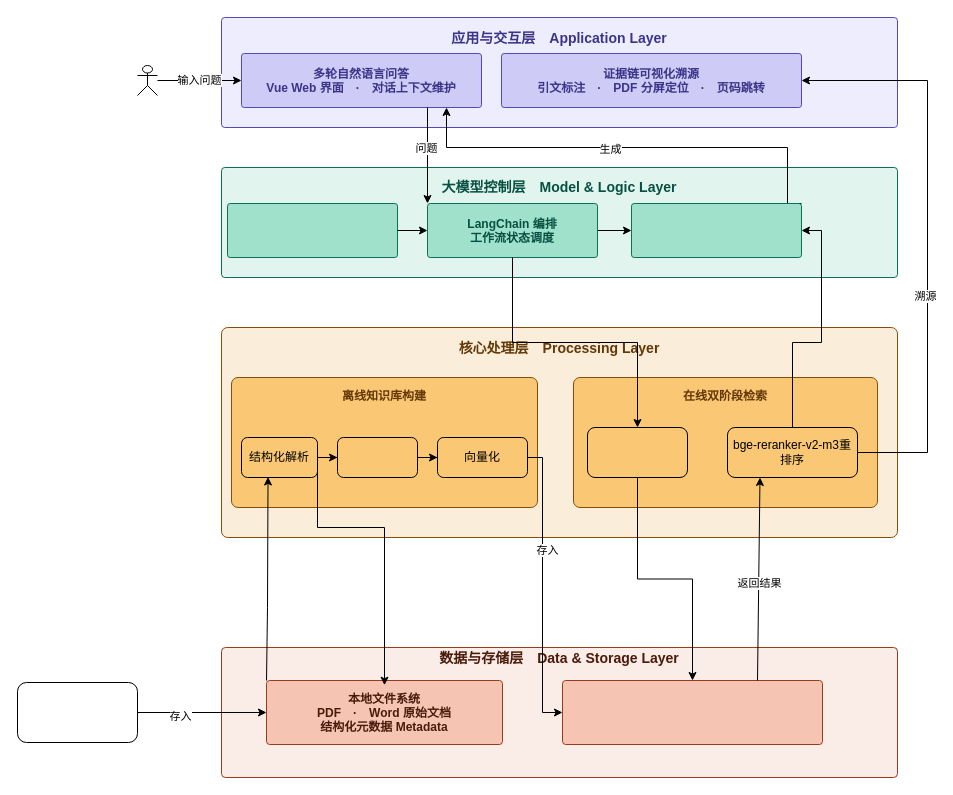
Image size: 953x795. Some labels were removed from this diagram. The shapes that lost their labels are listed below. From the top down, each one's centre as x and y in pixels, then its label:
At point (147, 80): "User".
At point (312, 230): "OBE Prompt 模板 限制生成 · 抑制幻觉".
At point (716, 230): "DeepSeek API 可控文本生成".
At point (377, 457): "语义感知切块".
At point (637, 452): "稠密向量初筛".
At point (77, 712): "工程认证文档等 （Docs Input）".
At point (692, 712): "向量数据库 Milvus / Chroma 文本块 · 高维稠密向量".
